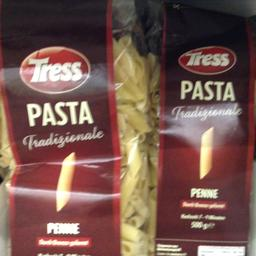pasta: (0, 1, 149, 255), (146, 2, 254, 255)
